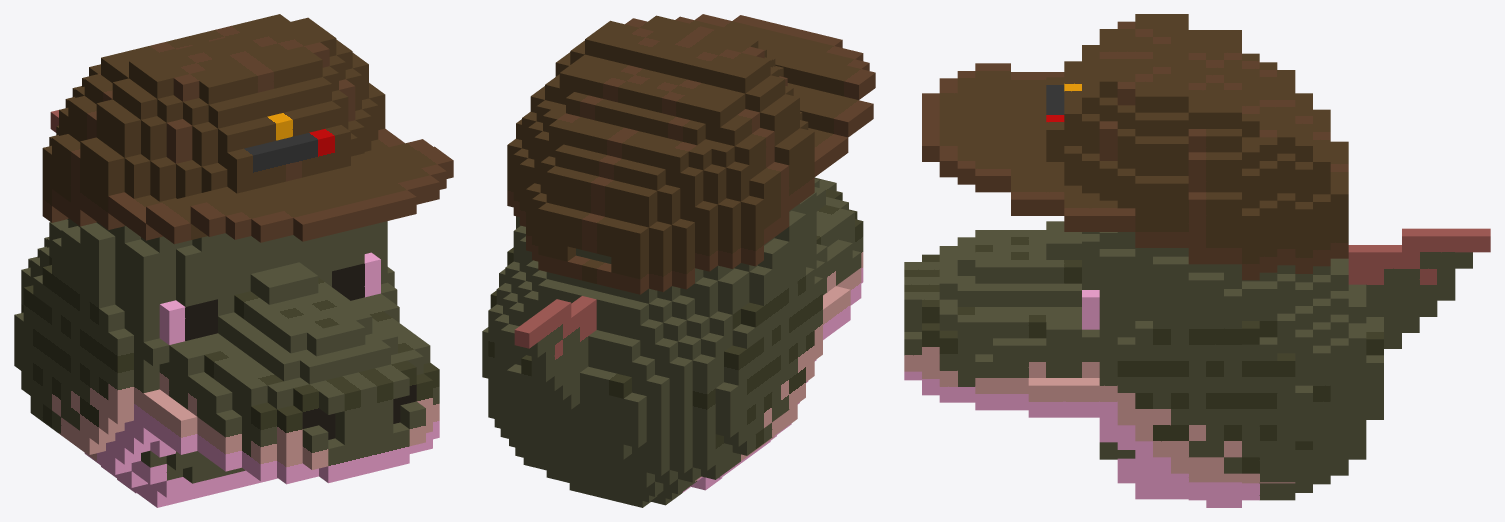
The model's file is wsb hat_lazer light.gltf.
The picture shows the model from 3 angles, left to right: view 1: azimuth 30°, elevation 25°; view 2: azimuth 150°, elevation 25°; view 3: azimuth 270°, elevation 25°; orthographic projection. The views are drawn at different scales.
Visible parts, largest first — view 1: C61_H_WSB_RedG_RBSpec_SkyD_LazerL_VRGg-Mesh; view 2: C61_H_WSB_RedG_RBSpec_SkyD_LazerL_VRGg-Mesh; view 3: C61_H_WSB_RedG_RBSpec_SkyD_LazerL_VRGg-Mesh.
Part boxes in pixels (left/top/right/bottom): C61_H_WSB_RedG_RBSpec_SkyD_LazerL_VRGg-Mesh: left=14, top=14, right=453, bottom=507; C61_H_WSB_RedG_RBSpec_SkyD_LazerL_VRGg-Mesh: left=482, top=14, right=875, bottom=507; C61_H_WSB_RedG_RBSpec_SkyD_LazerL_VRGg-Mesh: left=904, top=14, right=1490, bottom=507.
Bounding box in the file's own units: 17 × 26 × 33.
1 material, 1 textured.
